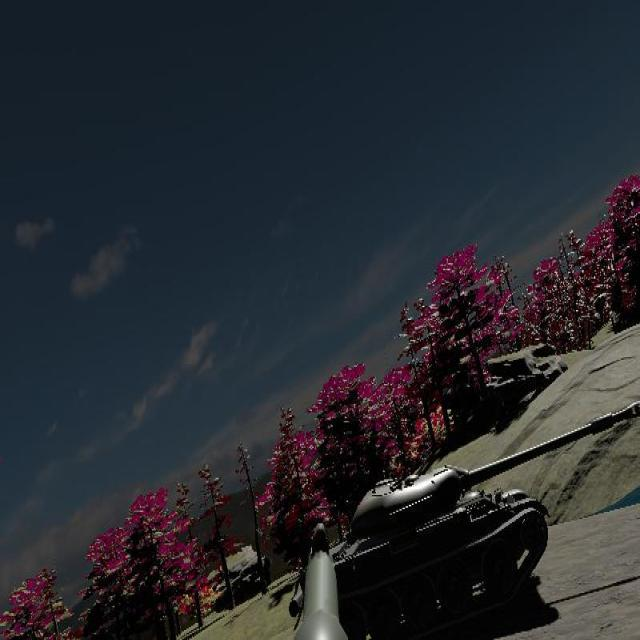Tank: (290, 400, 637, 638)
